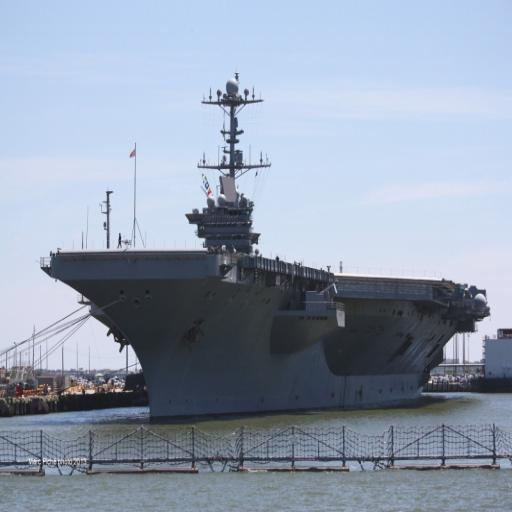Portanaves: (38, 69, 497, 429)
